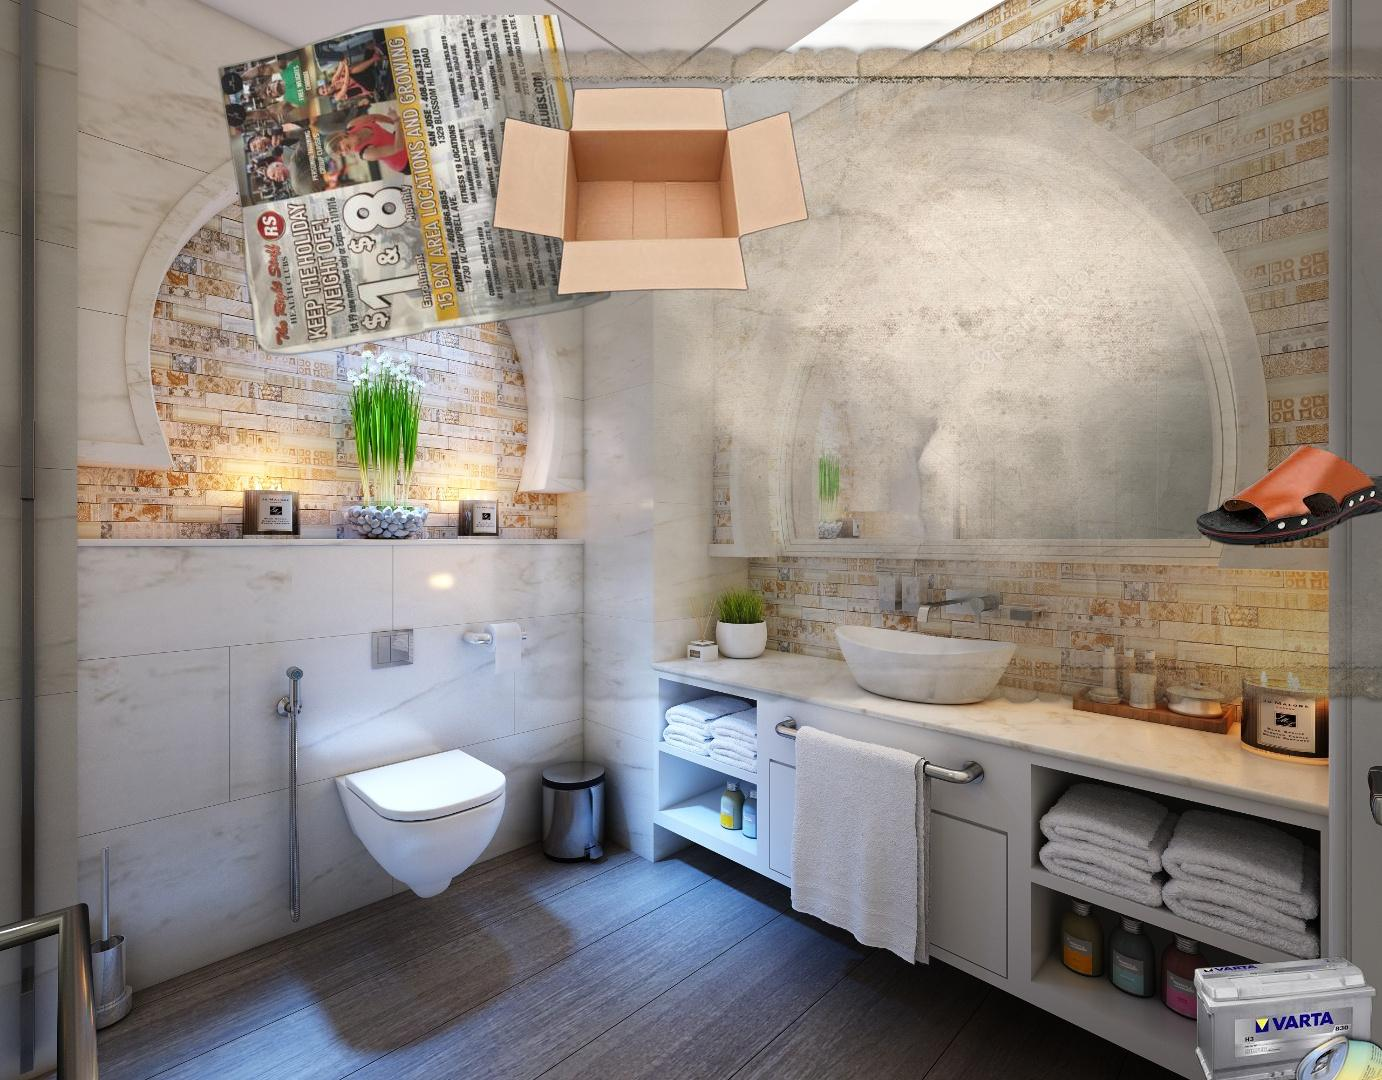battery: (1191, 954, 1379, 1080)
metal-cans: (1289, 1028, 1382, 1080)
paper: (214, 15, 616, 358)
shoes: (1194, 442, 1382, 548)
trashbox-cardboard: (467, 19, 1382, 724), (491, 86, 812, 297)
